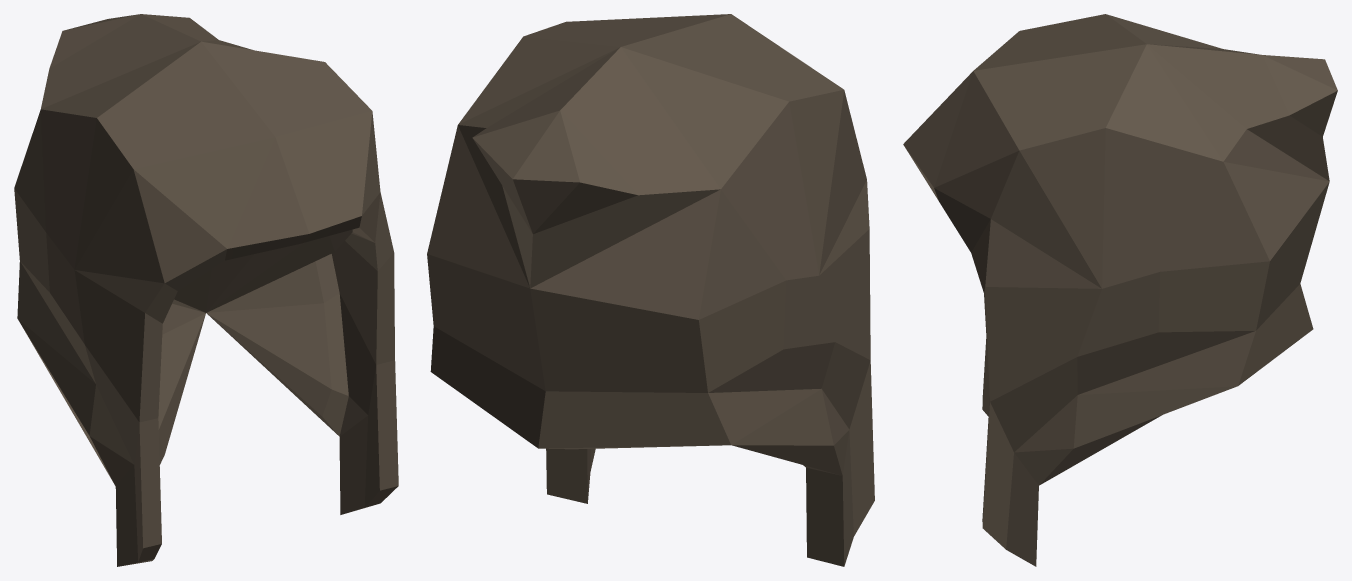
Rendered from Chr_HeadCoverings_No_Hair_13_Static.fbx.
The picture shows the model from 3 angles, left to right: view 1: azimuth 30°, elevation 25°; view 2: azimuth 150°, elevation 25°; view 3: azimuth 270°, elevation 25°; orthographic projection. The views are drawn at different scales.
Parts seen in each view (by area): view 1: Chr_HeadCoverings_No_Hair_13_Static; view 2: Chr_HeadCoverings_No_Hair_13_Static; view 3: Chr_HeadCoverings_No_Hair_13_Static.
Part boxes in pixels (left/top/right/bottom): Chr_HeadCoverings_No_Hair_13_Static: left=14, top=14, right=398, bottom=566; Chr_HeadCoverings_No_Hair_13_Static: left=427, top=14, right=874, bottom=566; Chr_HeadCoverings_No_Hair_13_Static: left=903, top=14, right=1337, bottom=566.
Bounding box in the file's own units: 0.2779 × 0.43 × 0.3642.
